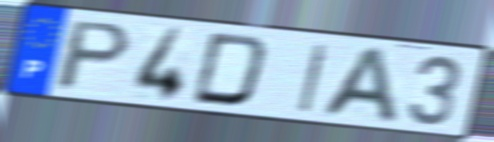3: (406, 53, 463, 127)
4: (131, 24, 188, 105)
A: (316, 44, 401, 126)
D: (188, 30, 272, 110)
I: (295, 41, 332, 115)
P: (52, 18, 136, 93)
